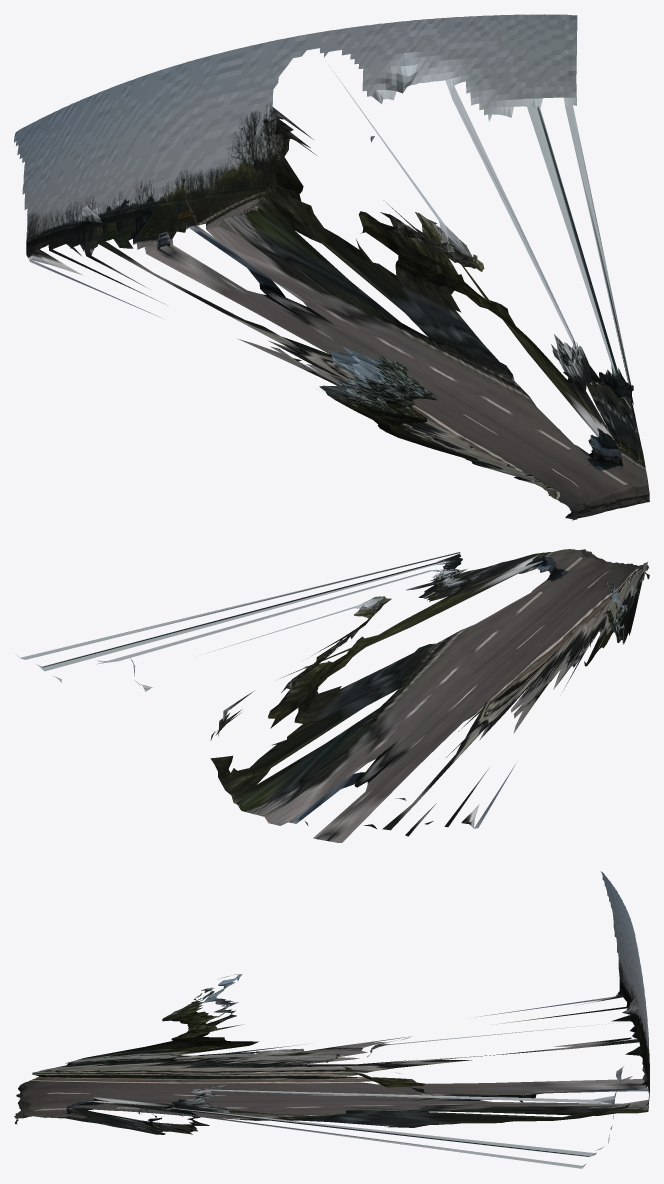
The picture shows the model from 3 angles, top to bottom: view 1: azimuth 30°, elevation 25°; view 2: azimuth 150°, elevation 25°; view 3: azimuth 270°, elevation 25°; orthographic projection. The views are drawn at different scales.
Parts seen in each view (by area): view 1: defaultobject; view 2: defaultobject; view 3: defaultobject.
Part boxes in pixels (<box>): defaultobject: <box>14,14,649,520</box>; defaultobject: <box>15,549,649,842</box>; defaultobject: <box>14,871,649,1168</box>.
Bounding box in the file's own units: 36.33 × 11.72 × 44.35.
1 material, 1 textured.
